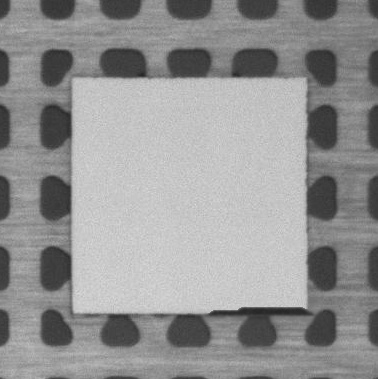DIE_BROKEN: (206, 303, 313, 318)
